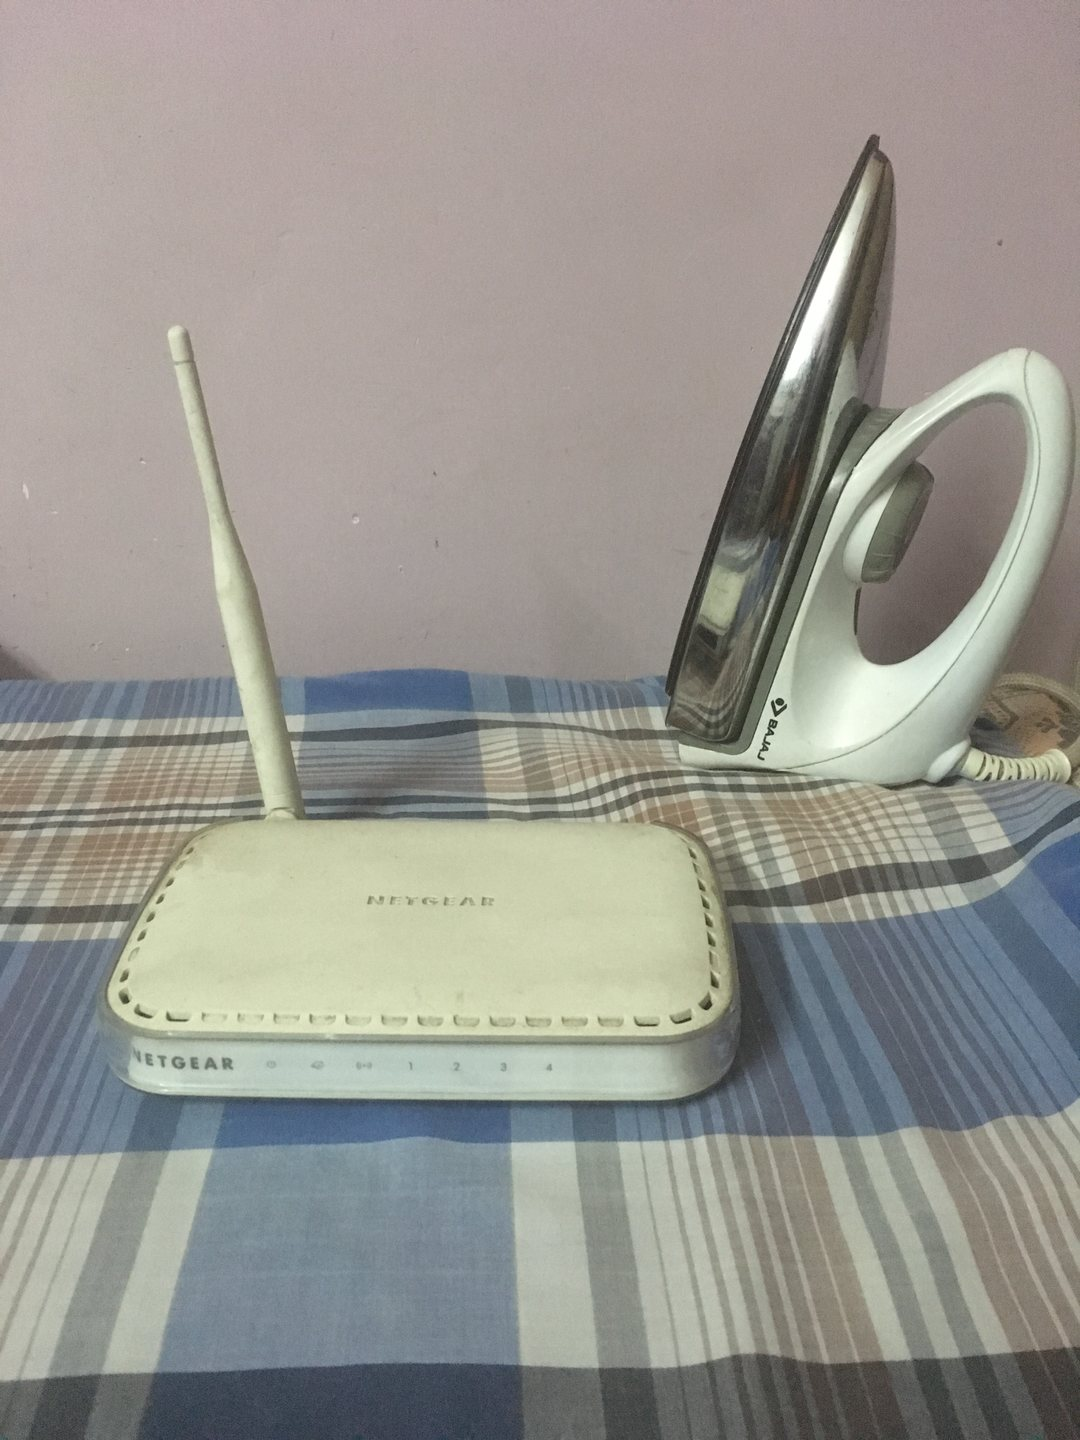NETGEAR: (129, 1043, 239, 1076)
modem: (99, 1007, 741, 1106)
